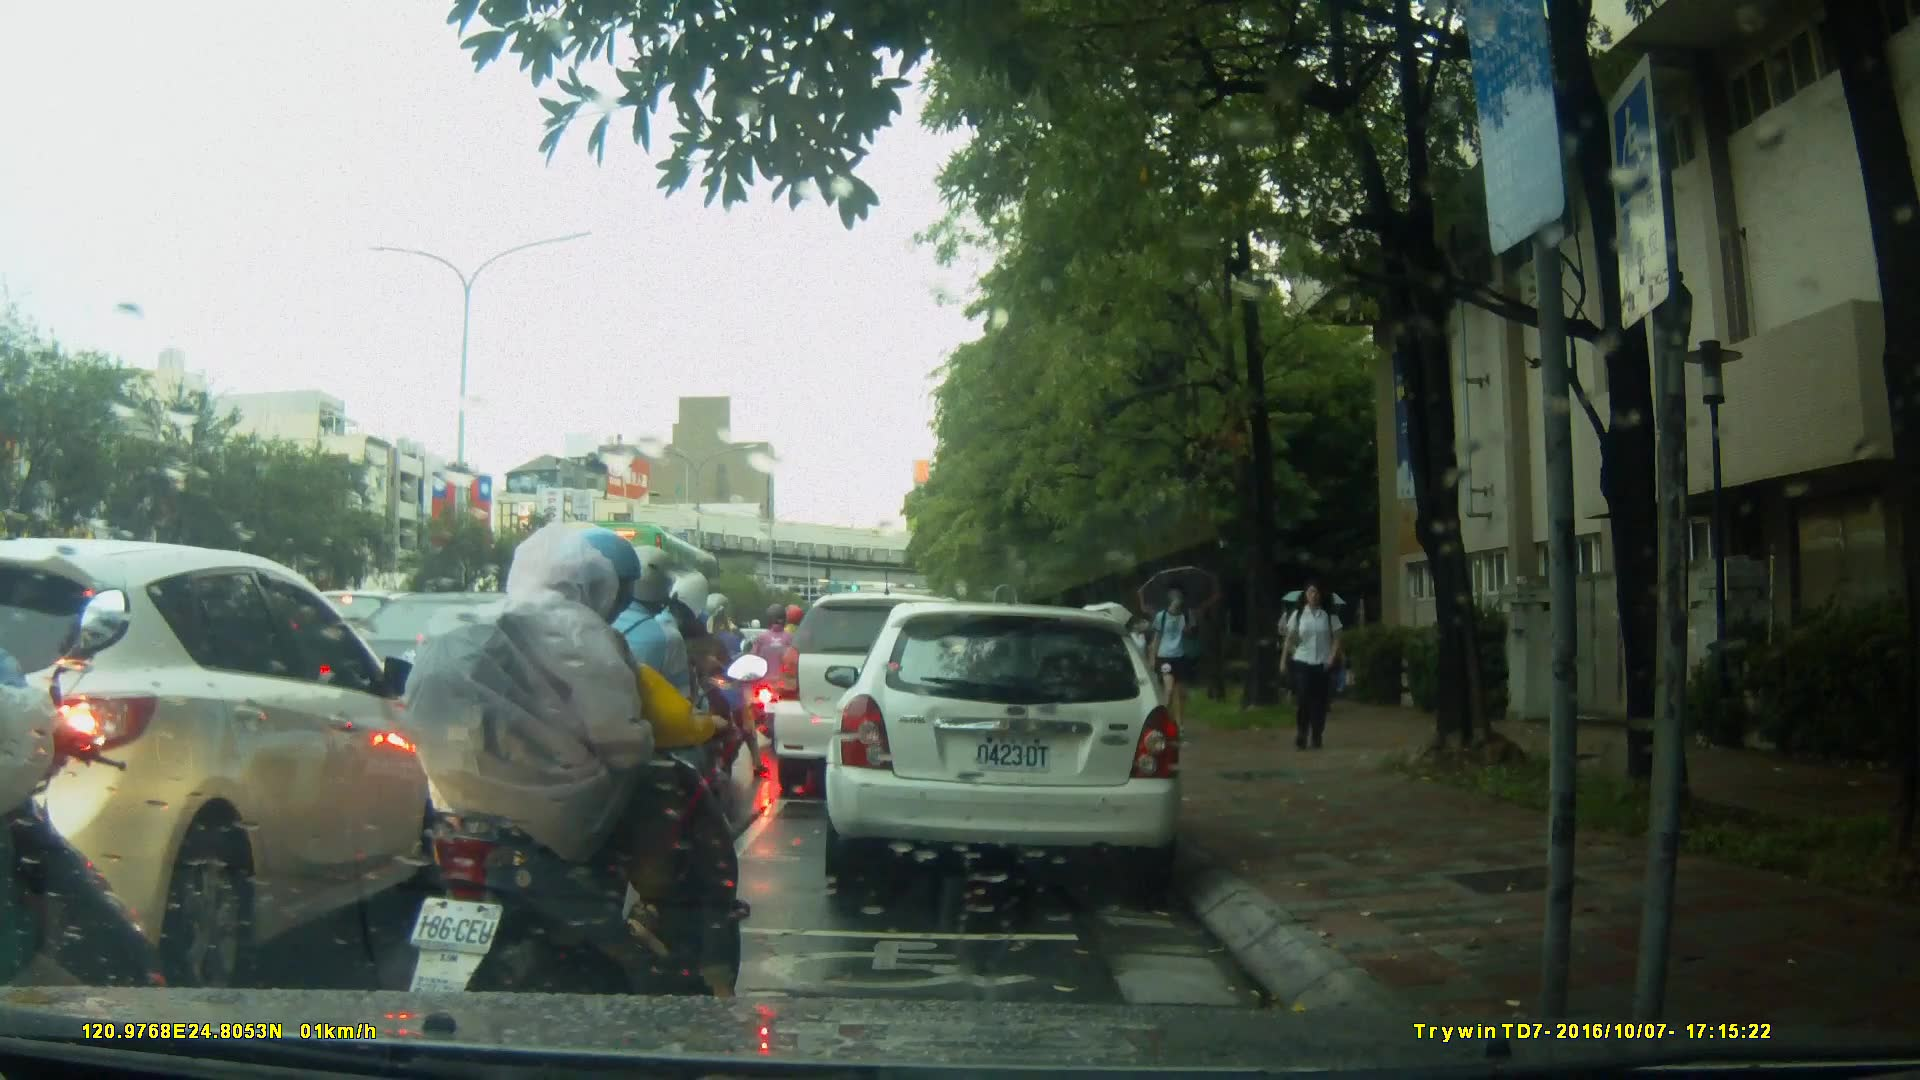pedestrian: (1277, 577, 1353, 752), (1139, 576, 1206, 738), (1133, 613, 1164, 723), (1095, 601, 1121, 715)
rider: (400, 520, 757, 1058), (1, 579, 176, 1079), (546, 546, 725, 885), (617, 573, 748, 860), (745, 601, 799, 758), (769, 603, 818, 737)
vehicle: (1, 538, 453, 989), (822, 604, 1186, 882), (774, 595, 995, 802), (554, 519, 739, 666)
